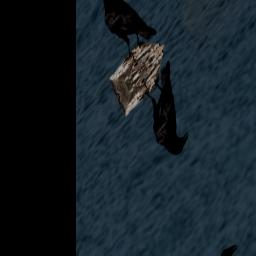Crow: (136, 58, 200, 168)
